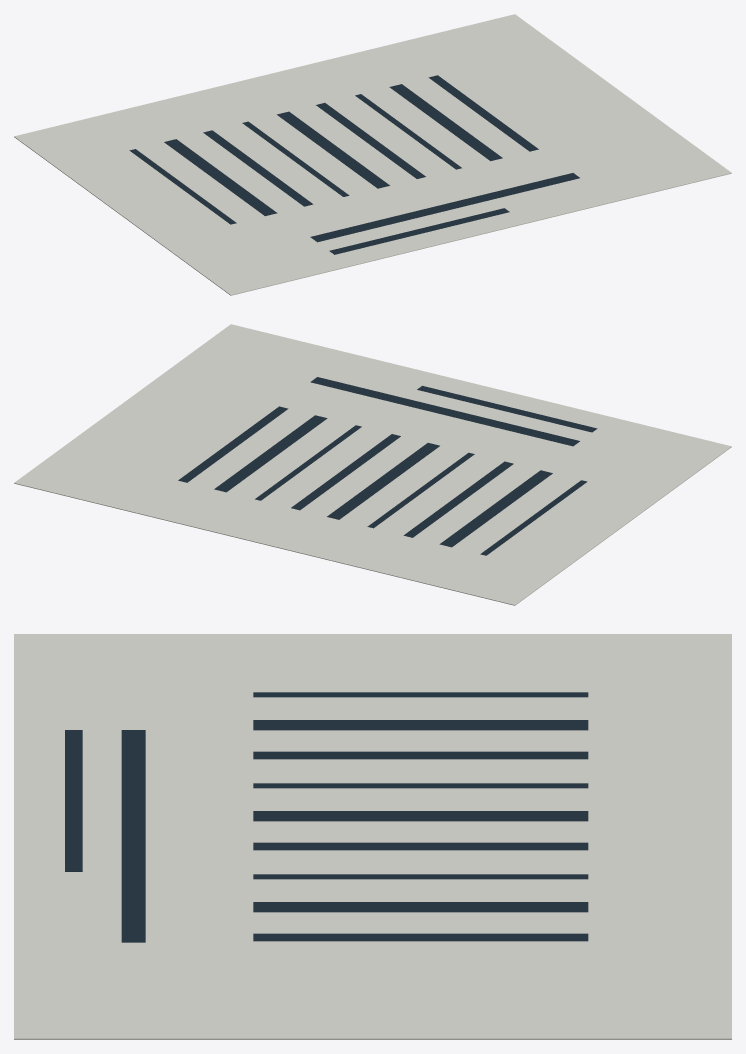
Rendered from paper.glb.
The picture shows the model from 3 angles, top to bottom: view 1: azimuth 30°, elevation 25°; view 2: azimuth 150°, elevation 25°; view 3: azimuth 270°, elevation 25°; orthographic projection. The views are drawn at different scales.
Parts seen in each view (by area): view 1: PeeledLabel, Output_TextA, Output_Bar_1, Output_Bar_7, Output_Bar_4, Output_TextB, Output_Bar_2, Output_Bar_8, Output_Bar_5, Output_Bar_0, Output_Bar_3, Output_Bar_6; view 2: PeeledLabel, Output_TextA, Output_Bar_7, Output_Bar_4, Output_Bar_1, Output_TextB, Output_Bar_8, Output_Bar_5, Output_Bar_2, Output_Bar_0, Output_Bar_3, Output_Bar_6; view 3: PeeledLabel, Output_TextA, Output_Bar_1, Output_Bar_4, Output_Bar_7, Output_Bar_2, Output_Bar_5, Output_Bar_8, Output_TextB, Output_Bar_0, Output_Bar_3, Output_Bar_6.
Boxes of the visible parts, x1,y1,x2,y2 form: PeeledLabel: (14,14,731,295); Output_TextA: (310,173,579,242); Output_Bar_1: (164,139,277,216); Output_Bar_7: (389,84,502,161); Output_Bar_4: (277,111,389,188); Output_TextB: (329,208,509,254); Output_Bar_2: (203,130,313,206); Output_Bar_8: (428,75,538,151); Output_Bar_5: (316,103,425,178); Output_Bar_0: (129,149,236,224); Output_Bar_3: (242,121,349,196); Output_Bar_6: (355,94,461,169); PeeledLabel: (14,324,731,605); Output_TextA: (310,377,579,446); Output_Bar_7: (214,415,327,492); Output_Bar_4: (327,443,439,519); Output_Bar_1: (439,470,552,547); Output_TextB: (417,385,597,432); Output_Bar_8: (178,406,288,482); Output_Bar_5: (291,434,400,510); Output_Bar_2: (403,461,513,537); Output_Bar_0: (480,480,587,555); Output_Bar_3: (367,452,474,528); Output_Bar_6: (255,425,361,500); PeeledLabel: (14,634,731,1039); Output_TextA: (121,730,145,942); Output_Bar_1: (253,720,588,730); Output_Bar_4: (253,811,588,821); Output_Bar_7: (253,902,588,912); Output_Bar_2: (253,751,588,759); Output_Bar_5: (253,842,588,850); Output_Bar_8: (253,933,588,941); Output_TextB: (65,730,82,871); Output_Bar_0: (253,692,588,697); Output_Bar_3: (253,783,588,788); Output_Bar_6: (253,874,588,879).
Bounding box in the file's own units: 0.08 × 0.000112 × 0.06.
